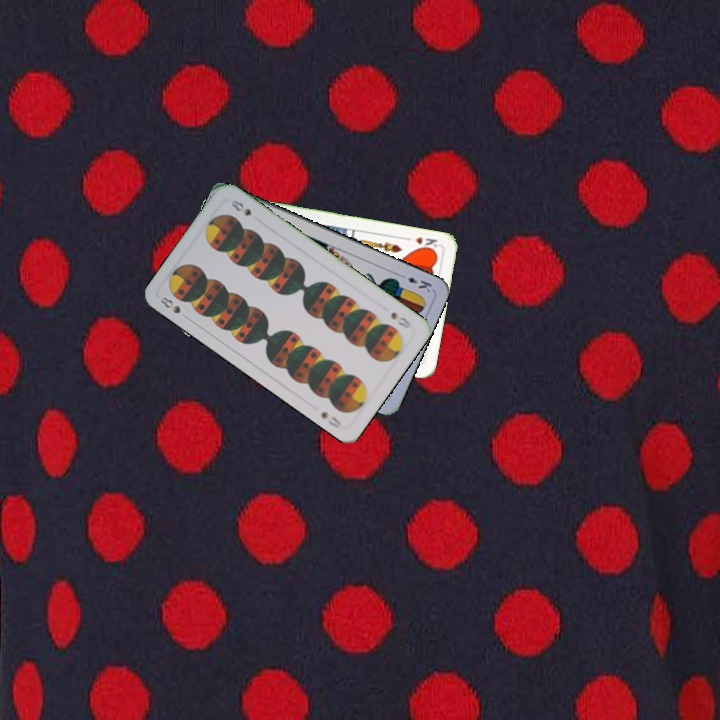EK: (395, 270, 435, 295)
HK: (411, 233, 442, 253)
S8: (155, 292, 192, 322), (387, 308, 414, 331)
